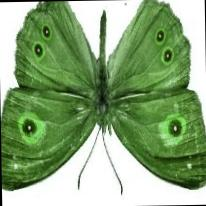butterfly: (0, 0, 206, 190)
